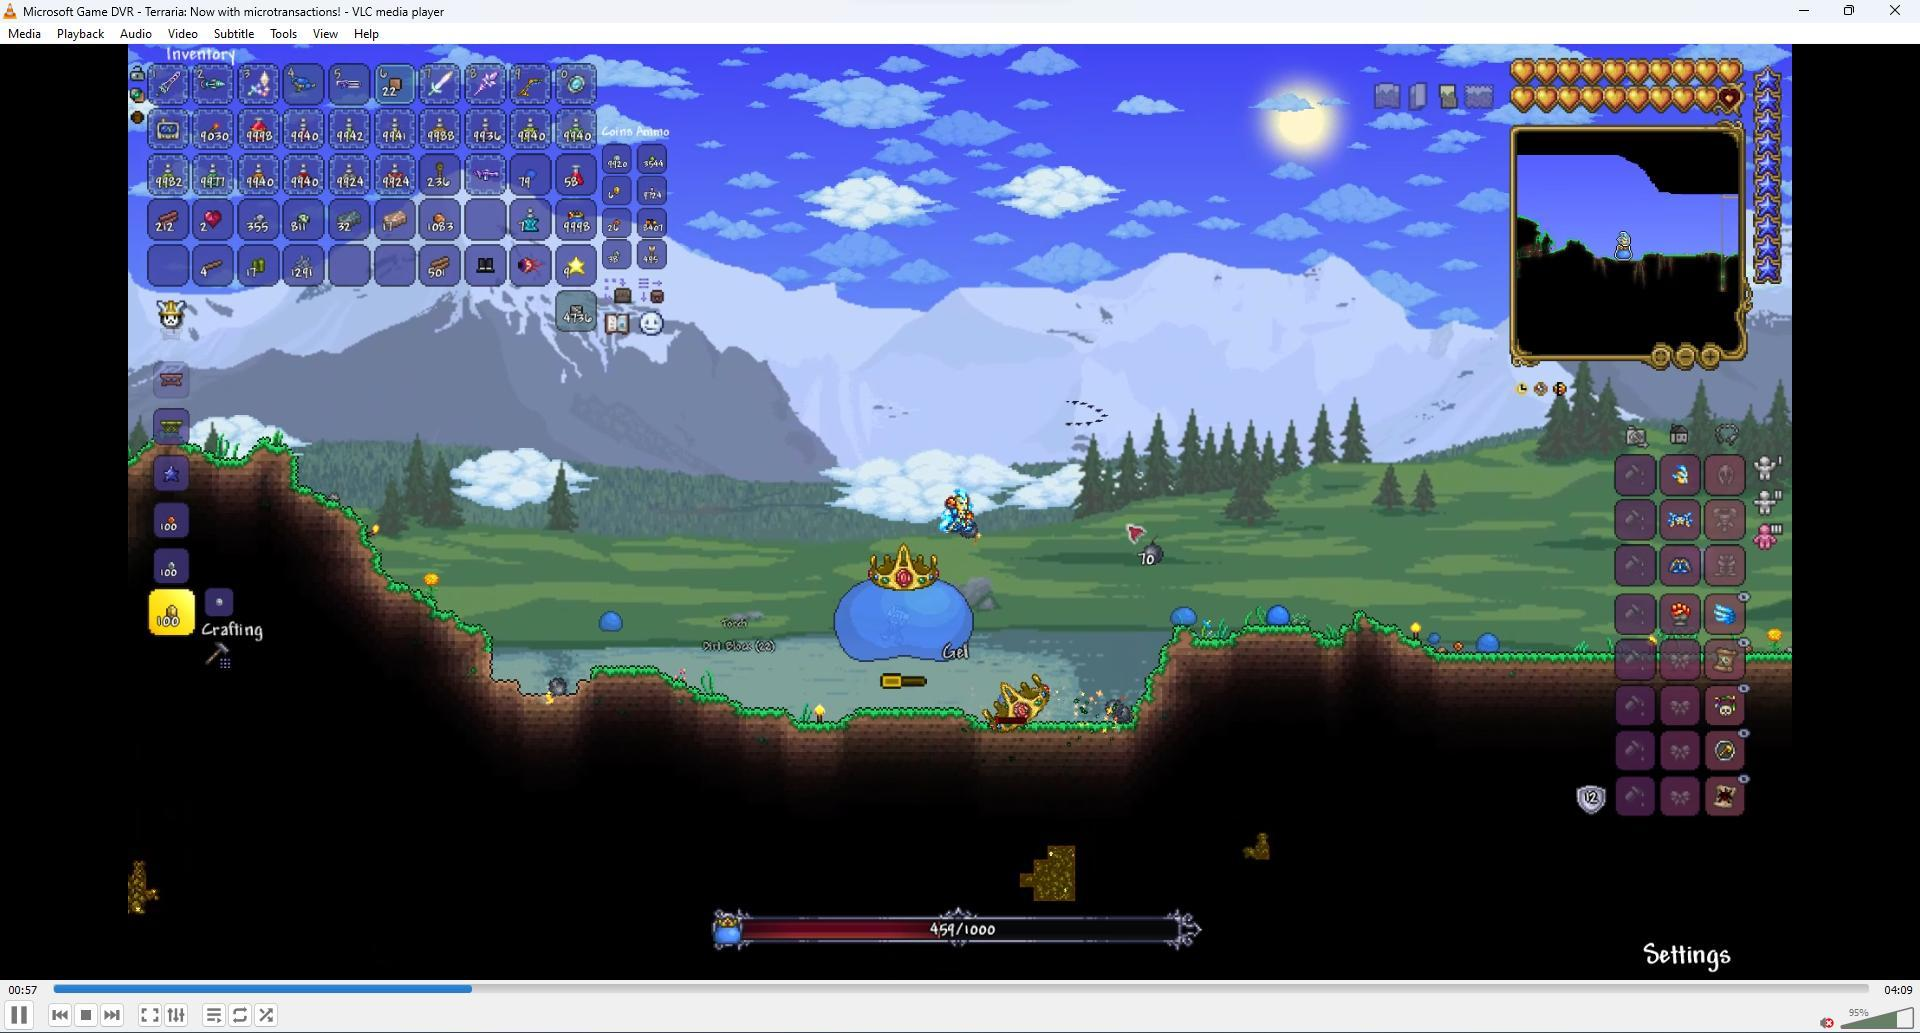slime: (1263, 604, 1297, 630), (1169, 602, 1198, 626), (1475, 627, 1500, 654), (599, 609, 626, 634)
